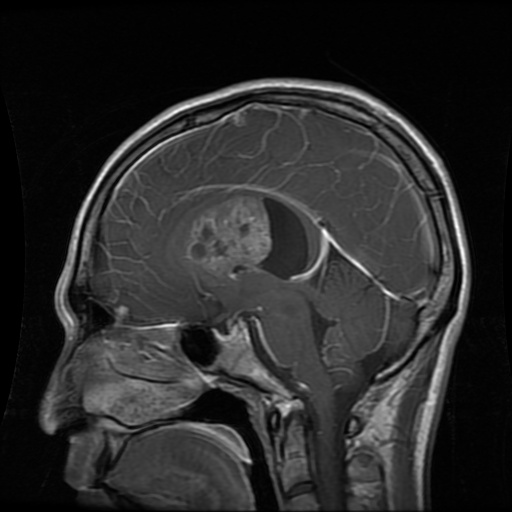glioma: (186, 193, 309, 285)
